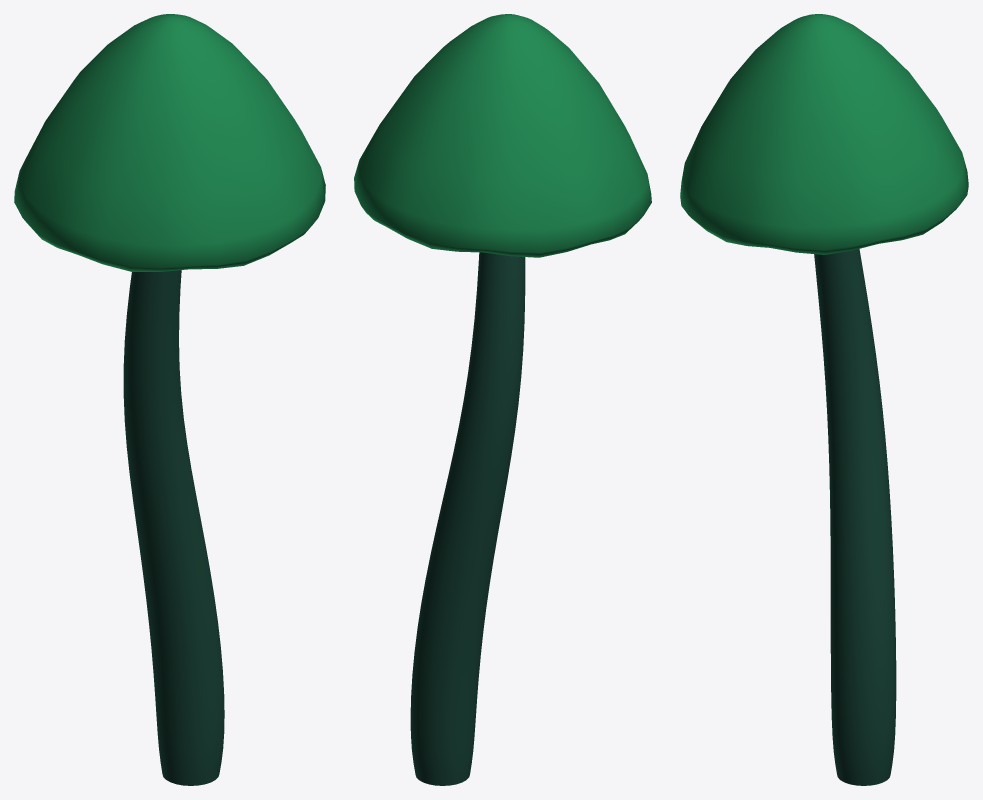
File: GreenMush_A.fbx
3 views of the same model, side by side, from view 1: azimuth 30°, elevation 25°; view 2: azimuth 150°, elevation 25°; view 3: azimuth 270°, elevation 25° (orthographic). The views are drawn at different scales.
Visible parts, largest first — view 1: GreenMush_A; view 2: GreenMush_A; view 3: GreenMush_A.
Part boxes in pixels (bbox=[...]): GreenMush_A: bbox=[14, 14, 325, 785]; GreenMush_A: bbox=[354, 14, 651, 785]; GreenMush_A: bbox=[680, 14, 968, 785].
Size of the model in its own units: 124 by 124 by 351.
